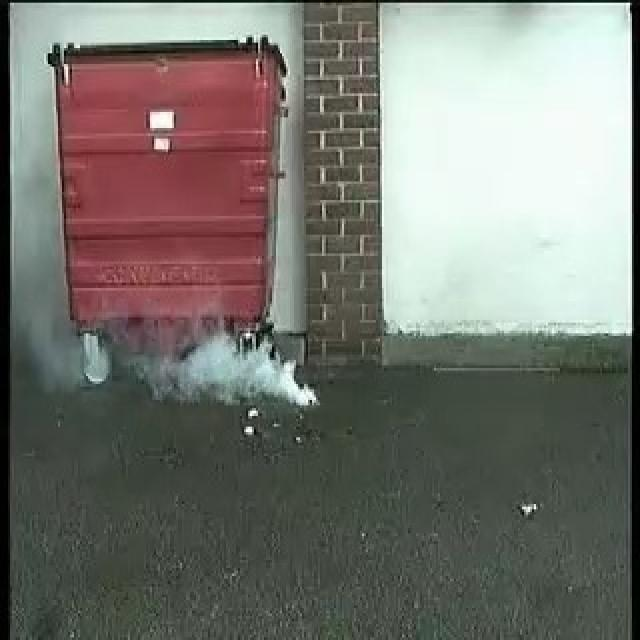smoke: (153, 326, 311, 404)
